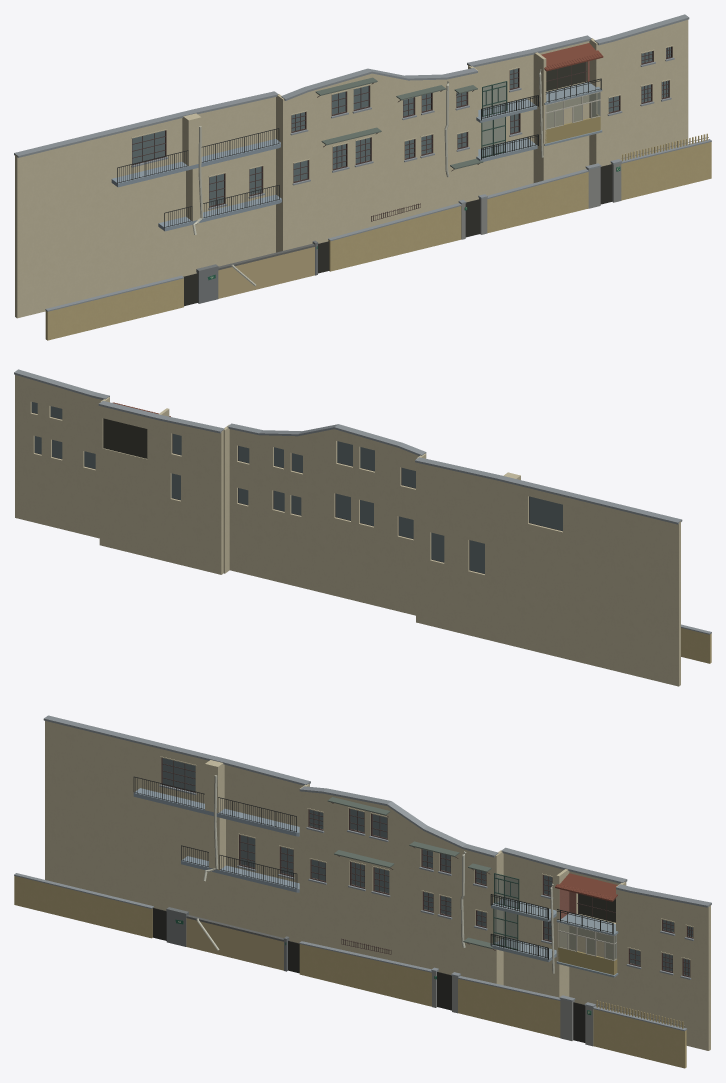
Rendered from xuhui-qixia-village-wuyuan-372-lod.glb.
3 views of the same model, one above another, from view 1: azimuth 30°, elevation 25°; view 2: azimuth 150°, elevation 25°; view 3: azimuth 330°, elevation 25° (orthographic).
Visible parts, largest first — view 1: 栖霞村6–9号院向立面; view 2: 栖霞村6–9号院向立面; view 3: 栖霞村6–9号院向立面.
Boxes of the visible parts, x1,y1,x2,y2 form: 栖霞村6–9号院向立面: (14,14,711,340); 栖霞村6–9号院向立面: (14,369,711,686); 栖霞村6–9号院向立面: (14,715,711,1068).
Size of the model in its own units: 38.68 by 9.35 by 3.72.
Materials: 28 (3 with a texture image).
